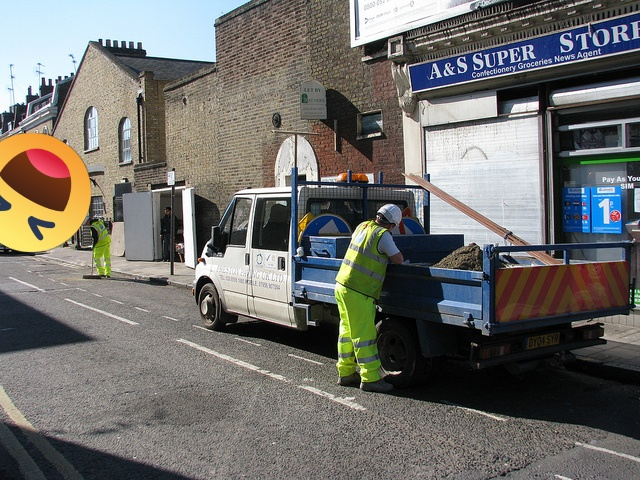haha: (0, 133, 91, 252)
